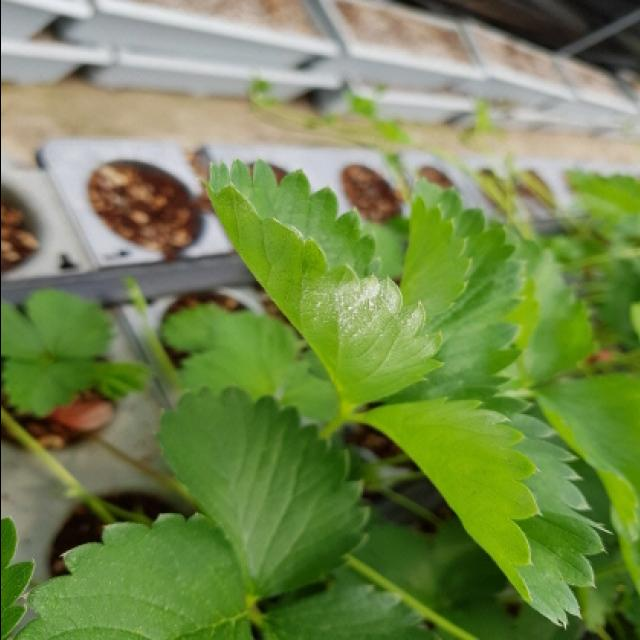Powdery Mildew Leaf: (199, 156, 447, 406)
